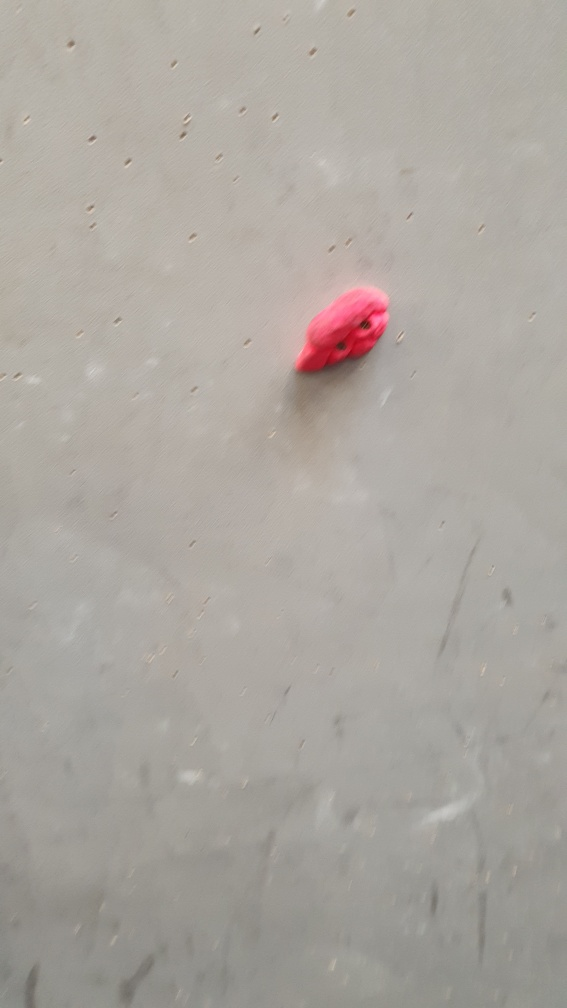Jug: (294, 278, 396, 379)
